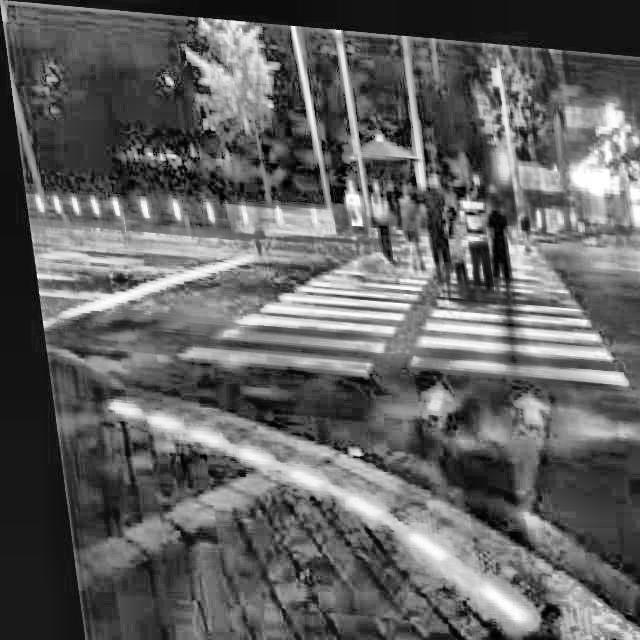semaforo pedestre: (463, 107, 536, 203)
